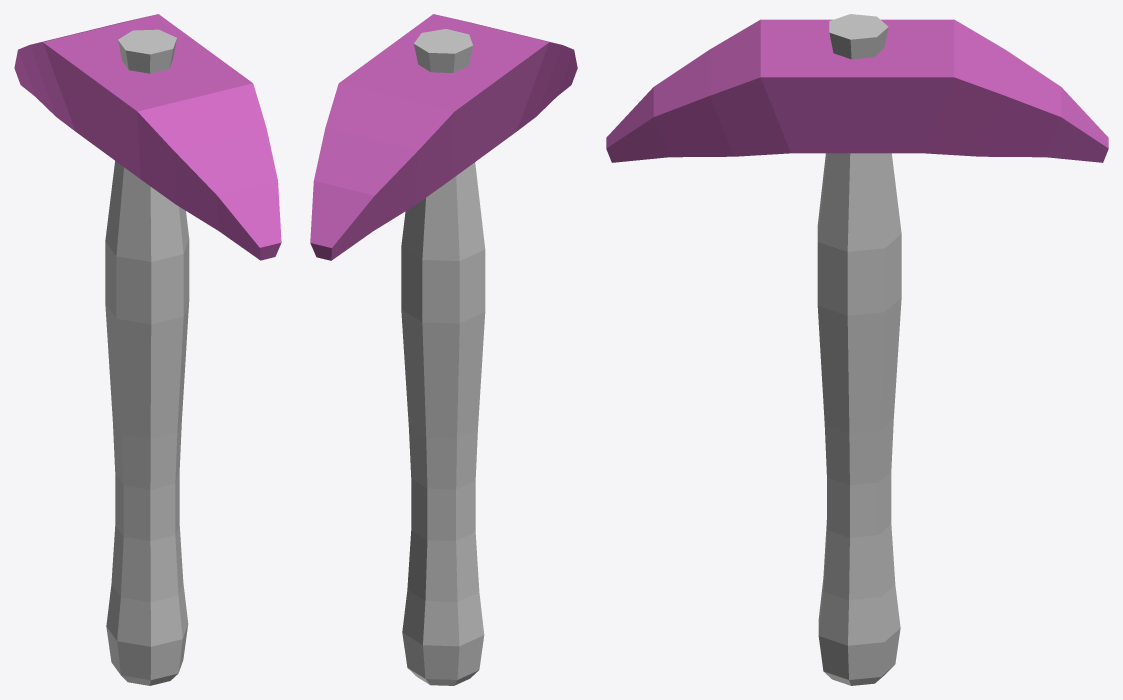
File: Red Pickaxe.fbx
3 views of the same model, side by side, from view 1: azimuth 30°, elevation 25°; view 2: azimuth 150°, elevation 25°; view 3: azimuth 270°, elevation 25° (orthographic). The views are drawn at different scales.
Parts seen in each view (by area): view 1: Handle, Head; view 2: Handle, Head; view 3: Head, Handle.
Part boxes in pixels (x1=…): Handle: x1=105, y1=29, x2=189, y2=685; Head: x1=14, y1=14, x2=281, y2=260; Handle: x1=401, y1=29, x2=485, y2=685; Head: x1=310, y1=14, x2=577, y2=260; Head: x1=606, y1=19, x2=1108, y2=162; Handle: x1=817, y1=14, x2=901, y2=685.
Bounding box in the file's own units: 144 × 751 × 528.
